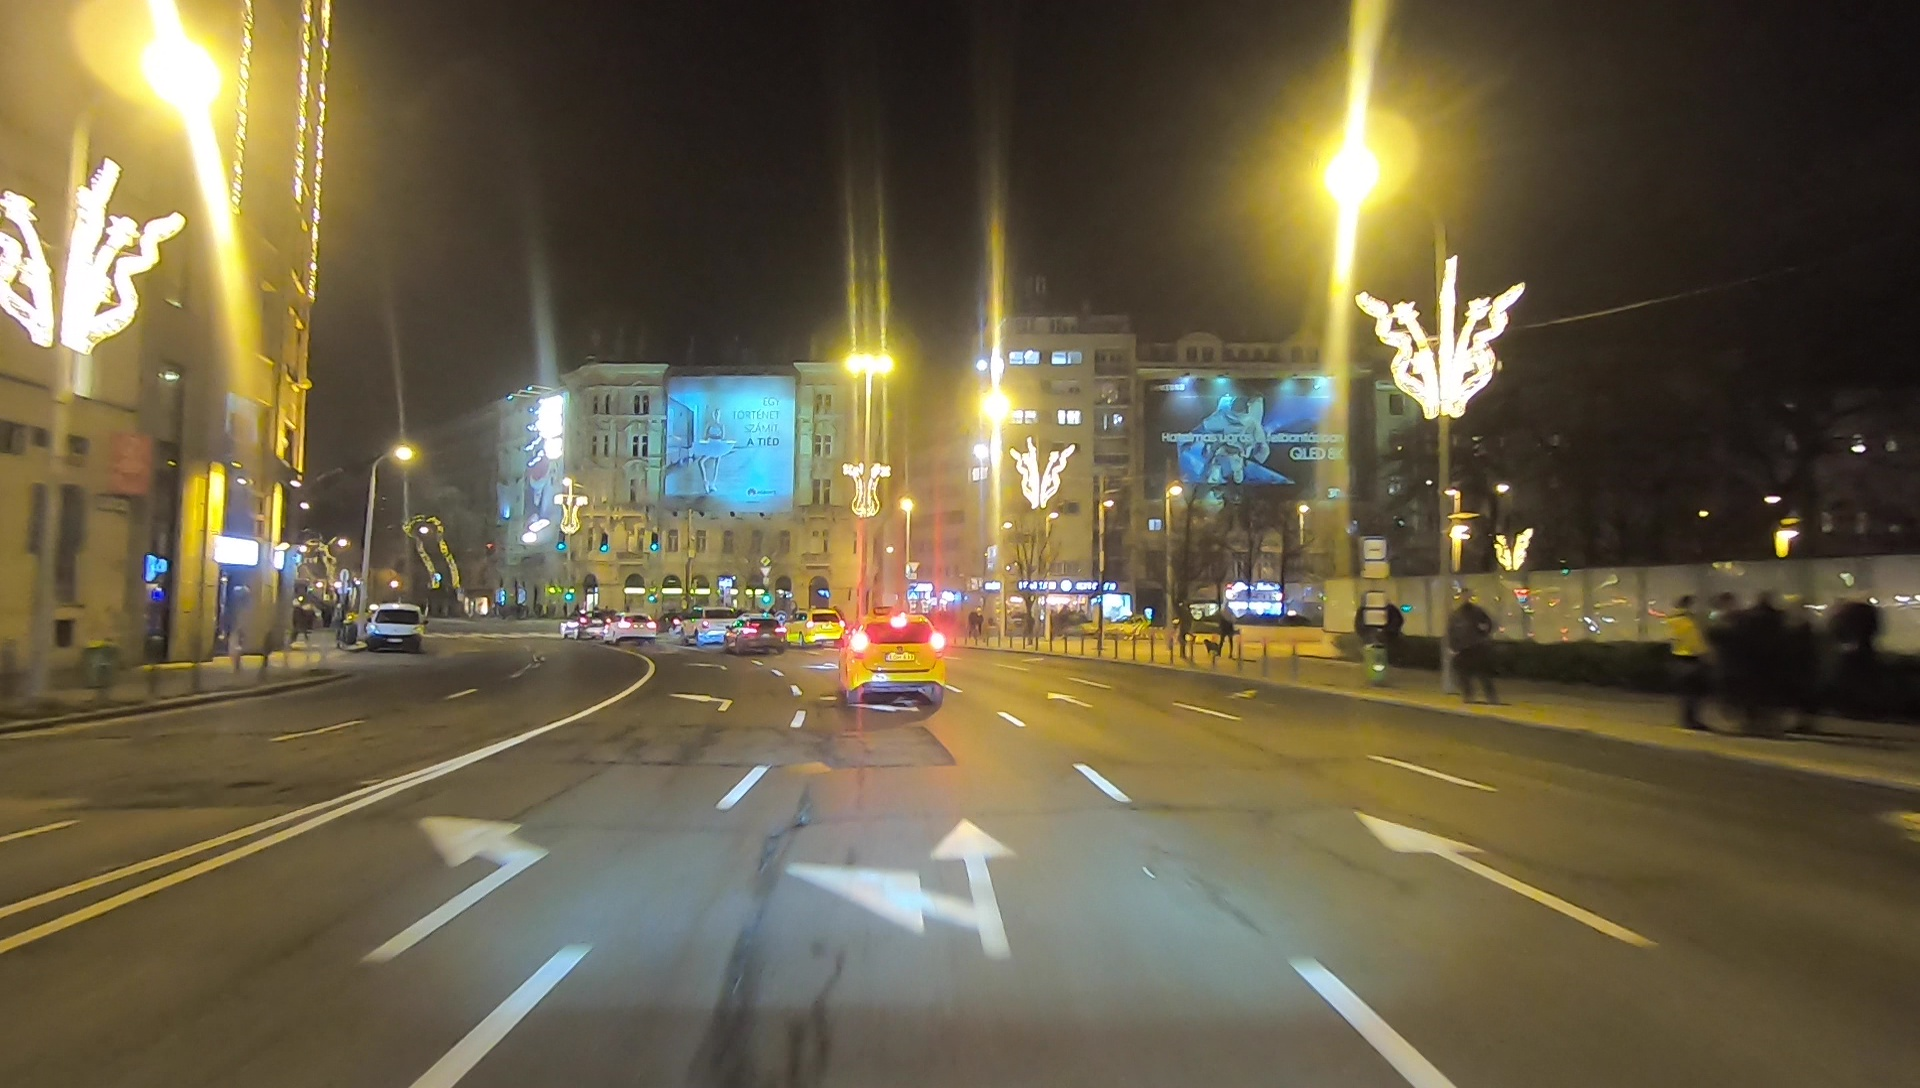person: (1665, 593, 1710, 732), (1747, 589, 1788, 726), (1449, 589, 1495, 704), (1714, 595, 1747, 734)
